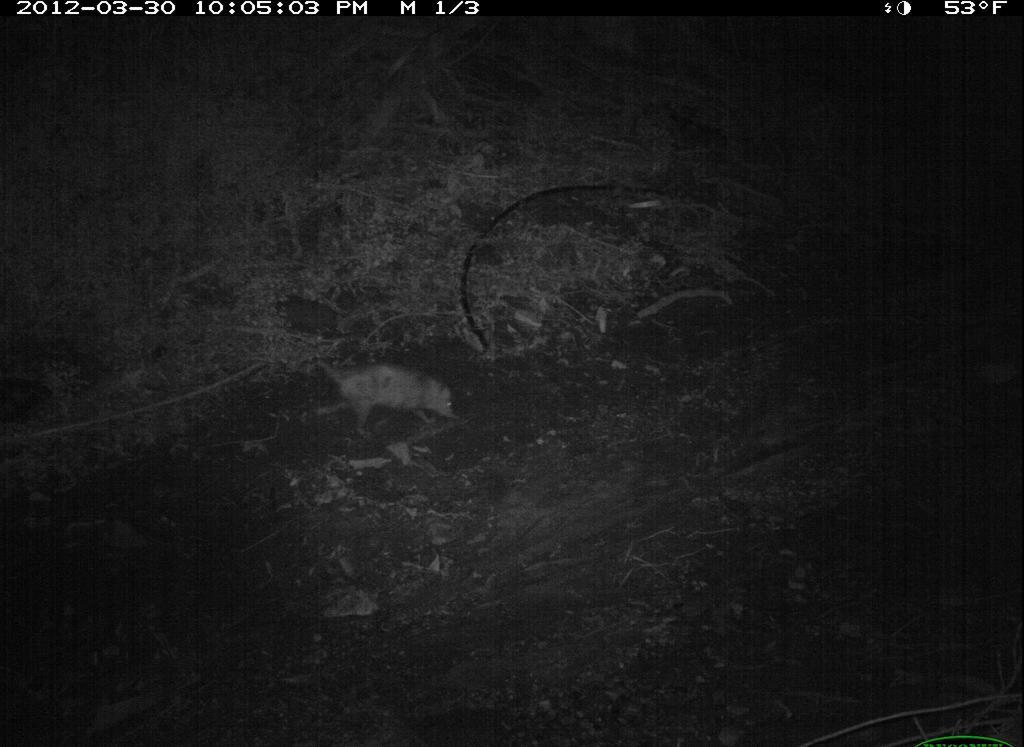opossum: (290, 331, 483, 446)
